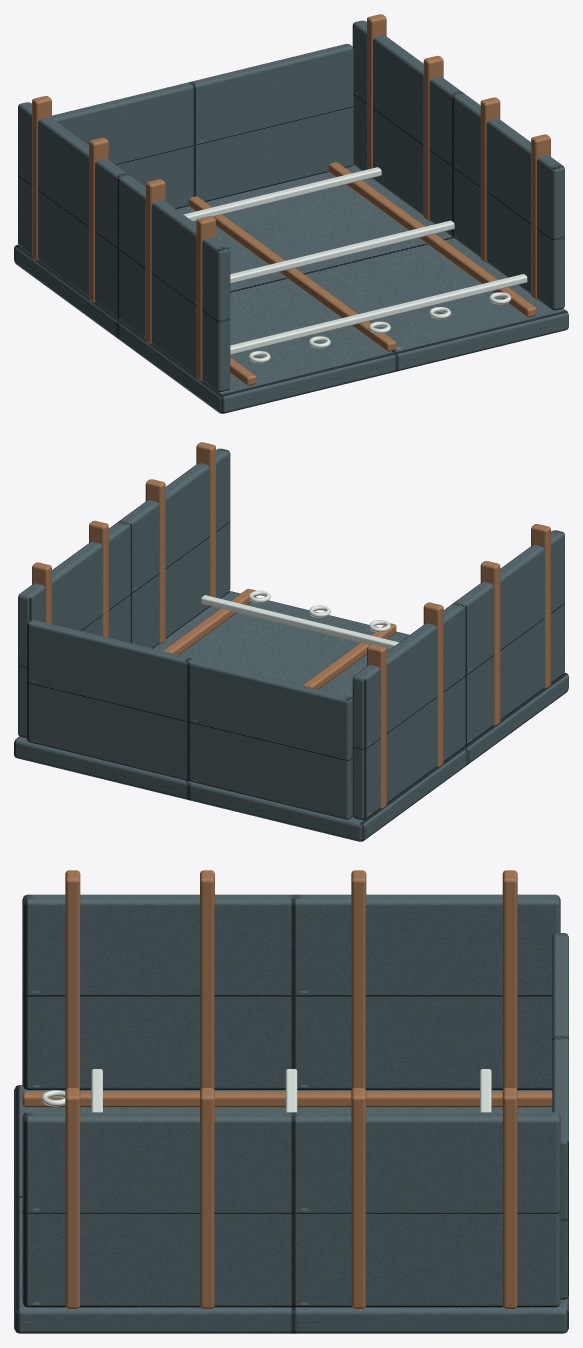
File: diving-and-underwater-salvage-cargo-hold-section-dee56170__28440.glb
3 renders of one model, top to bottom at view 1: azimuth 30°, elevation 25°; view 2: azimuth 150°, elevation 25°; view 3: azimuth 270°, elevation 25°, orthographic. The views are drawn at different scales.
Visible parts, largest first — view 1: cargo-hold-section-steel, cargo-hold-section-rust, cargo-hold-section-pale; view 2: cargo-hold-section-steel, cargo-hold-section-rust, cargo-hold-section-pale; view 3: cargo-hold-section-steel, cargo-hold-section-rust, cargo-hold-section-pale.
Boxes of the visible parts, x1,y1,x2,y2 form: cargo-hold-section-steel: (14,20,568,413); cargo-hold-section-rust: (32,14,550,385); cargo-hold-section-pale: (183,167,527,363); cargo-hold-section-steel: (14,448,568,841); cargo-hold-section-rust: (32,442,550,809); cargo-hold-section-pale: (201,590,399,649); cargo-hold-section-steel: (14,894,568,1333); cargo-hold-section-rust: (22,870,552,1308); cargo-hold-section-pale: (41,1069,491,1112).
Bounding box in the file's own units: 3.21 × 1.57 × 3.3.
3 materials, 1 textured.
